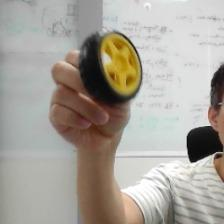wheel: (80, 28, 143, 106)
